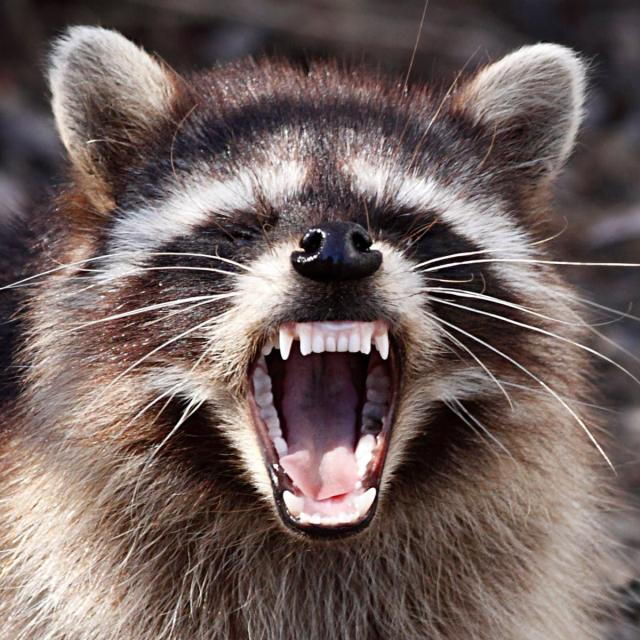Raccoon: (8, 21, 640, 640)
